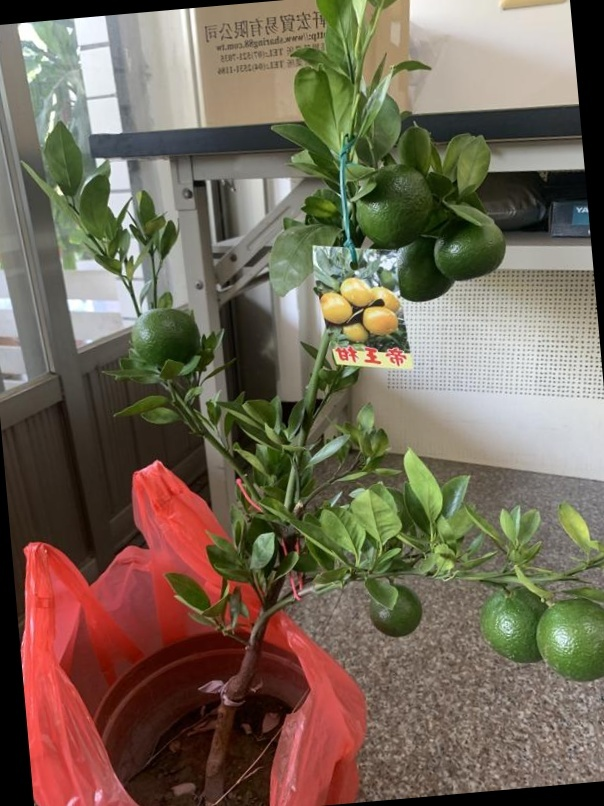Tangerine: (358, 160, 432, 249), (483, 584, 548, 667), (536, 601, 602, 679), (437, 211, 505, 282), (132, 305, 202, 370), (397, 234, 455, 302), (364, 580, 422, 638)
